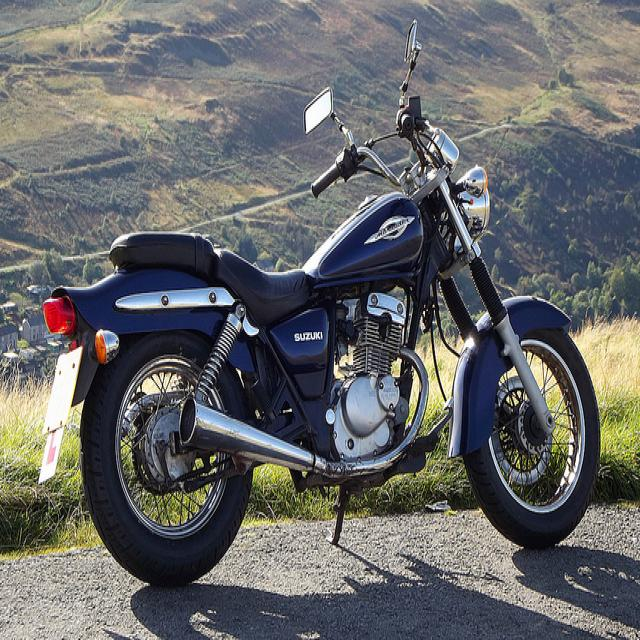motor: (38, 24, 602, 591)
